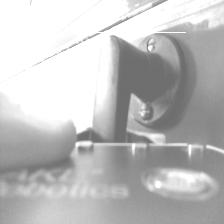Door Handle: (90, 32, 186, 143)
